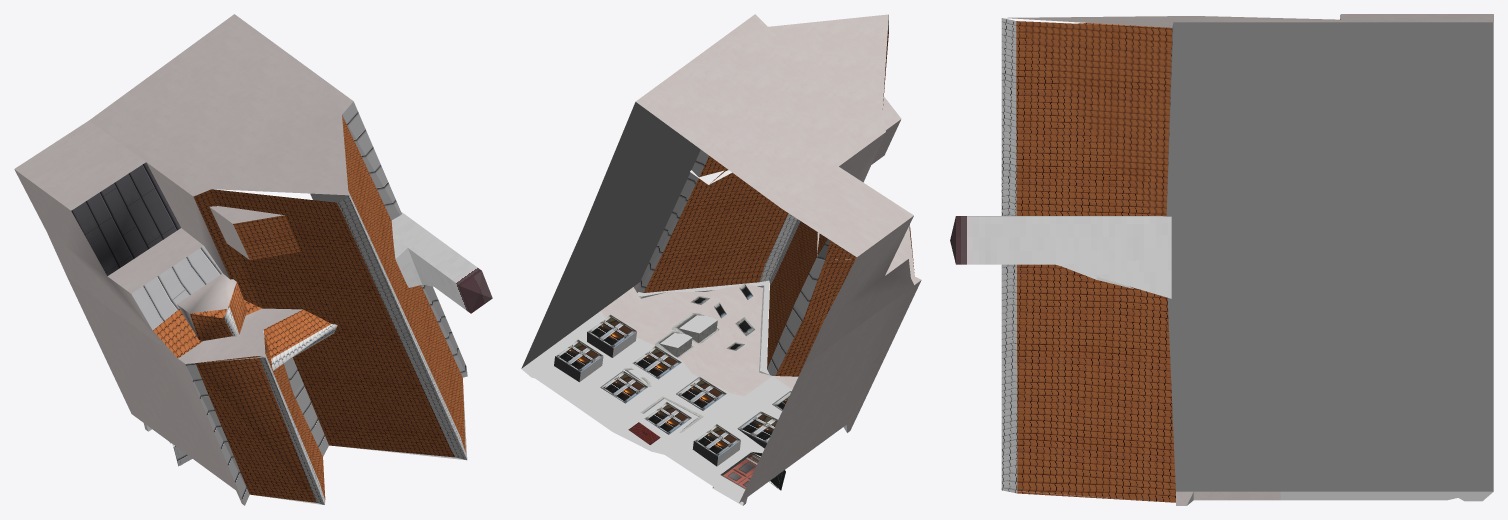
The model's file is Dunkri_6-origo.obj.
The picture shows the model from 3 angles, left to right: view 1: azimuth 30°, elevation 25°; view 2: azimuth 150°, elevation 25°; view 3: azimuth 270°, elevation 25°; orthographic projection. The views are drawn at different scales.
Parts seen in each view (by area): view 1: Dunkri_6; view 2: Dunkri_6; view 3: Dunkri_6.
Boxes of the visible parts, bbox=[...] form: Dunkri_6: bbox=[14, 14, 492, 505]; Dunkri_6: bbox=[521, 14, 921, 505]; Dunkri_6: bbox=[950, 14, 1493, 505].
Bounding box in the file's own units: 17.31 × 19.5 × 18.1.
